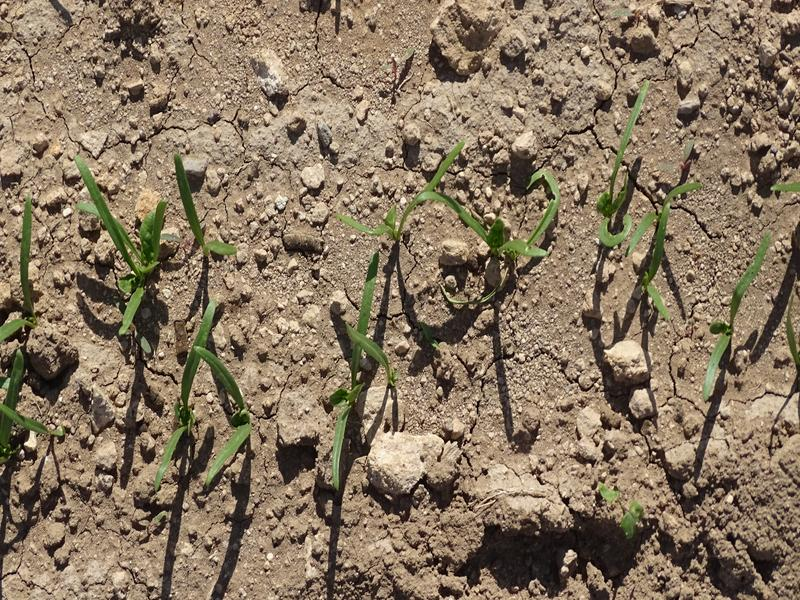Espinaca: (348, 154, 566, 253), (67, 157, 171, 334), (154, 307, 254, 486), (316, 254, 393, 484), (604, 86, 692, 250), (700, 231, 771, 396), (173, 156, 243, 259), (1, 195, 34, 344)
